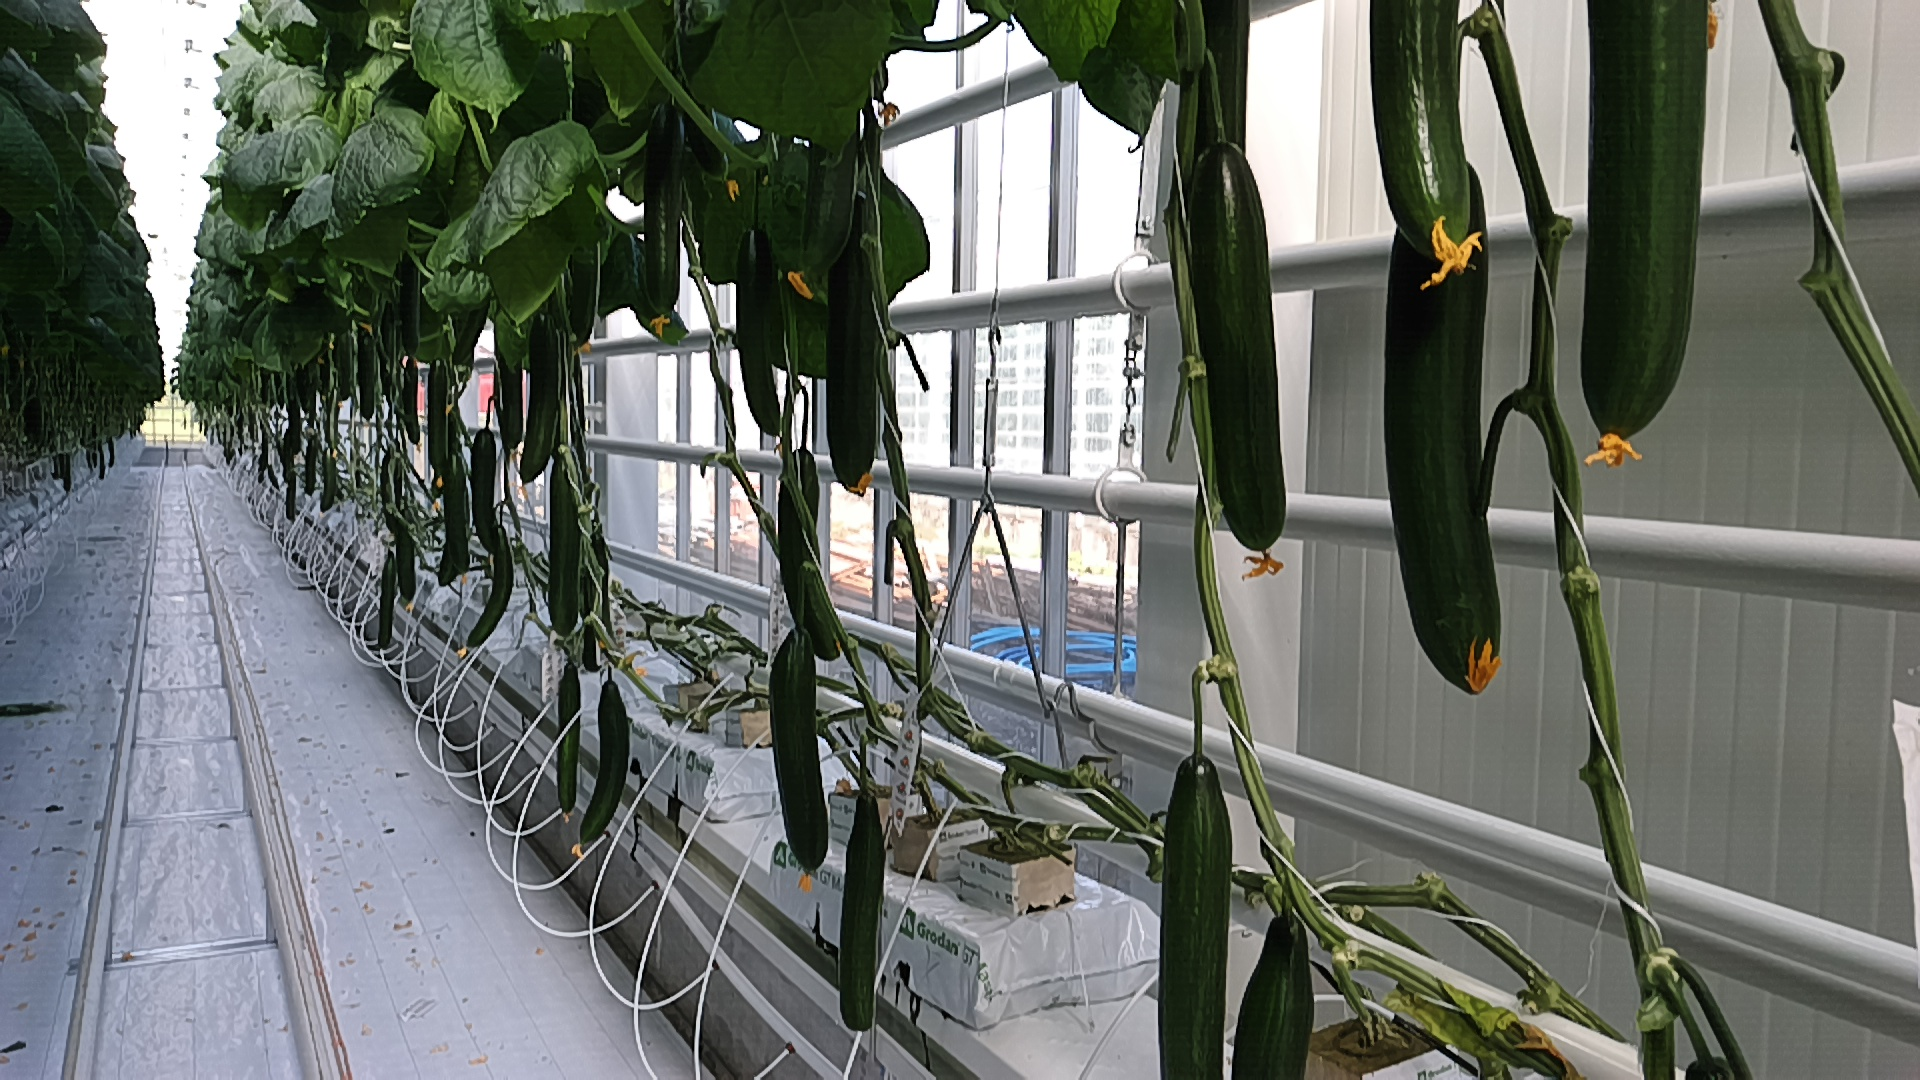gurka: (1178, 129, 1316, 570), (762, 620, 835, 887), (835, 789, 889, 1043), (554, 658, 584, 816)
